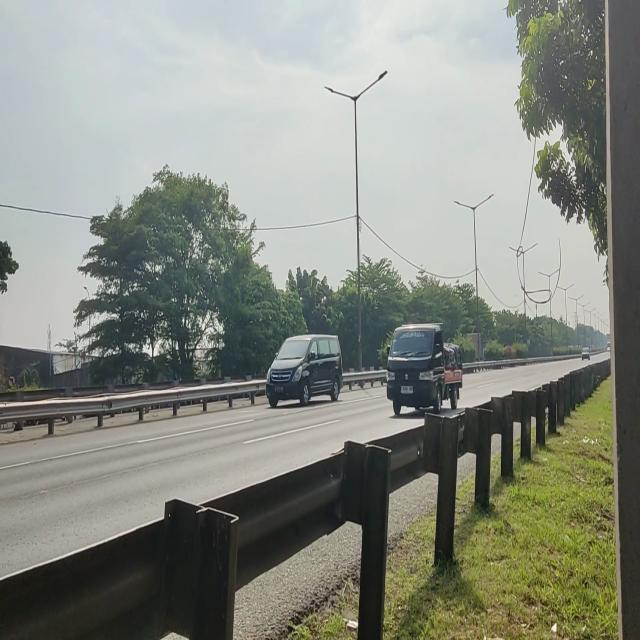Golongan I: (380, 314, 470, 421), (264, 326, 349, 414)
